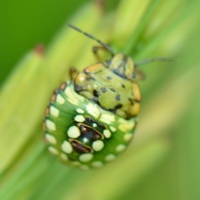insect: (43, 24, 143, 168)
